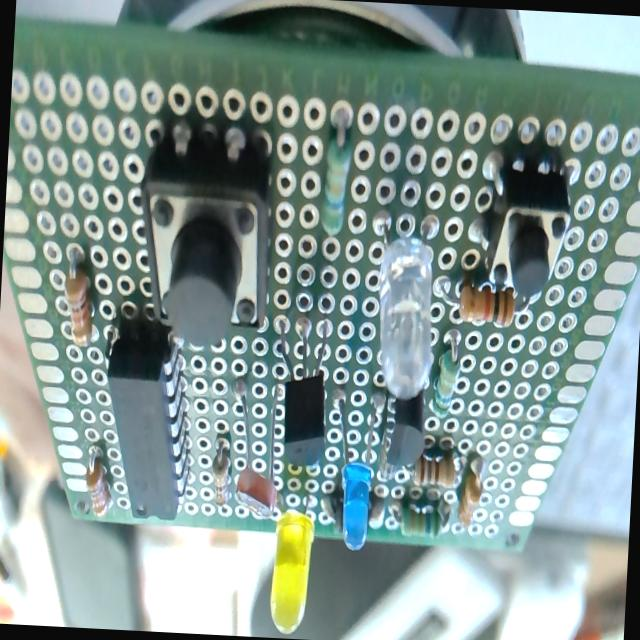IC: (96, 314, 202, 528)
cds: (230, 378, 284, 520)
led: (367, 211, 442, 406), (330, 389, 382, 560), (266, 486, 322, 639)
resistor: (313, 94, 362, 248), (54, 238, 104, 360), (438, 279, 544, 330), (386, 491, 454, 544), (429, 329, 465, 422), (454, 455, 494, 536), (80, 442, 119, 522), (404, 447, 464, 491), (206, 437, 234, 517)
switch: (131, 114, 287, 354), (466, 148, 581, 302)
transistor: (268, 309, 338, 475)
